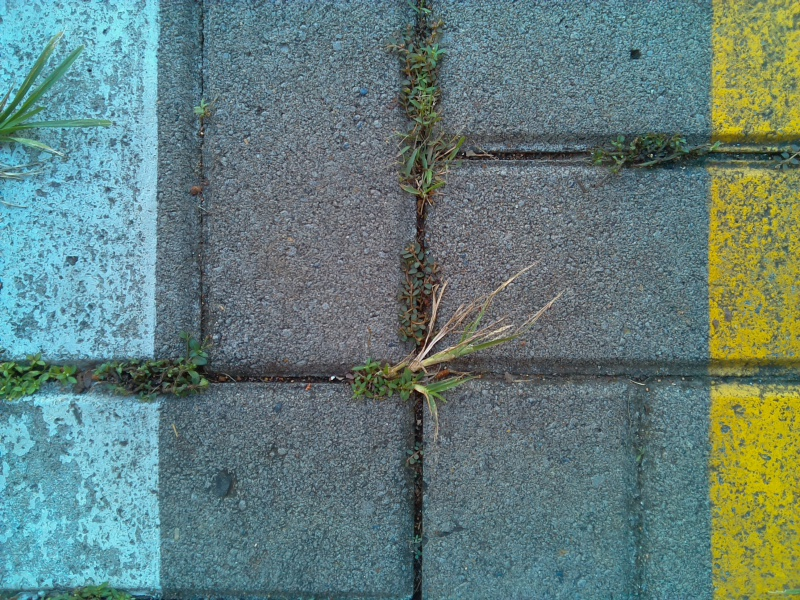Weed: (391, 299, 514, 408), (385, 108, 478, 209), (581, 127, 724, 187), (102, 332, 220, 403), (386, 29, 464, 130), (387, 243, 452, 346), (1, 343, 81, 415), (338, 344, 414, 406), (184, 89, 224, 131), (396, 528, 436, 570), (395, 436, 434, 477)
